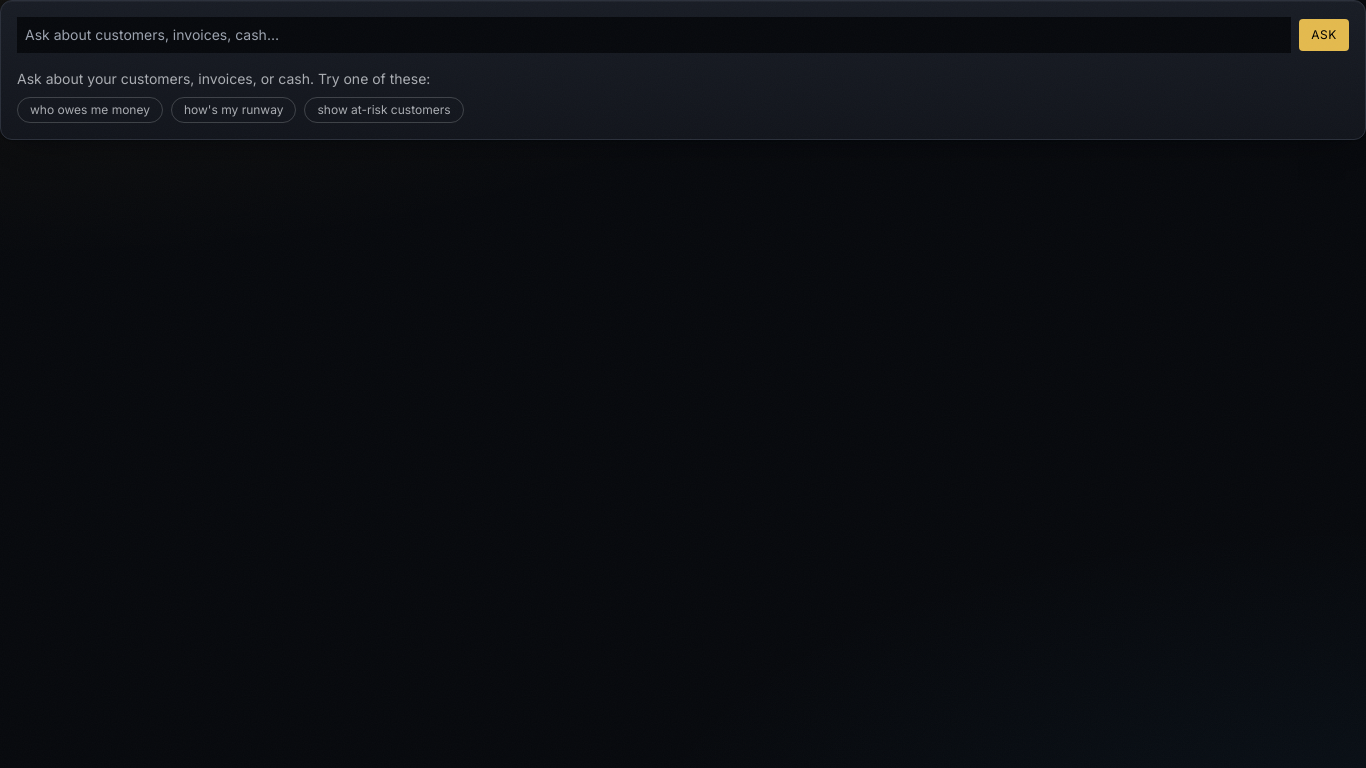
Test: CommandPalette — stat result › renders the value, label, and optional detail
In the field named "ask a question": [654, 35] box [17,17,1291,53], type "how's my runway"
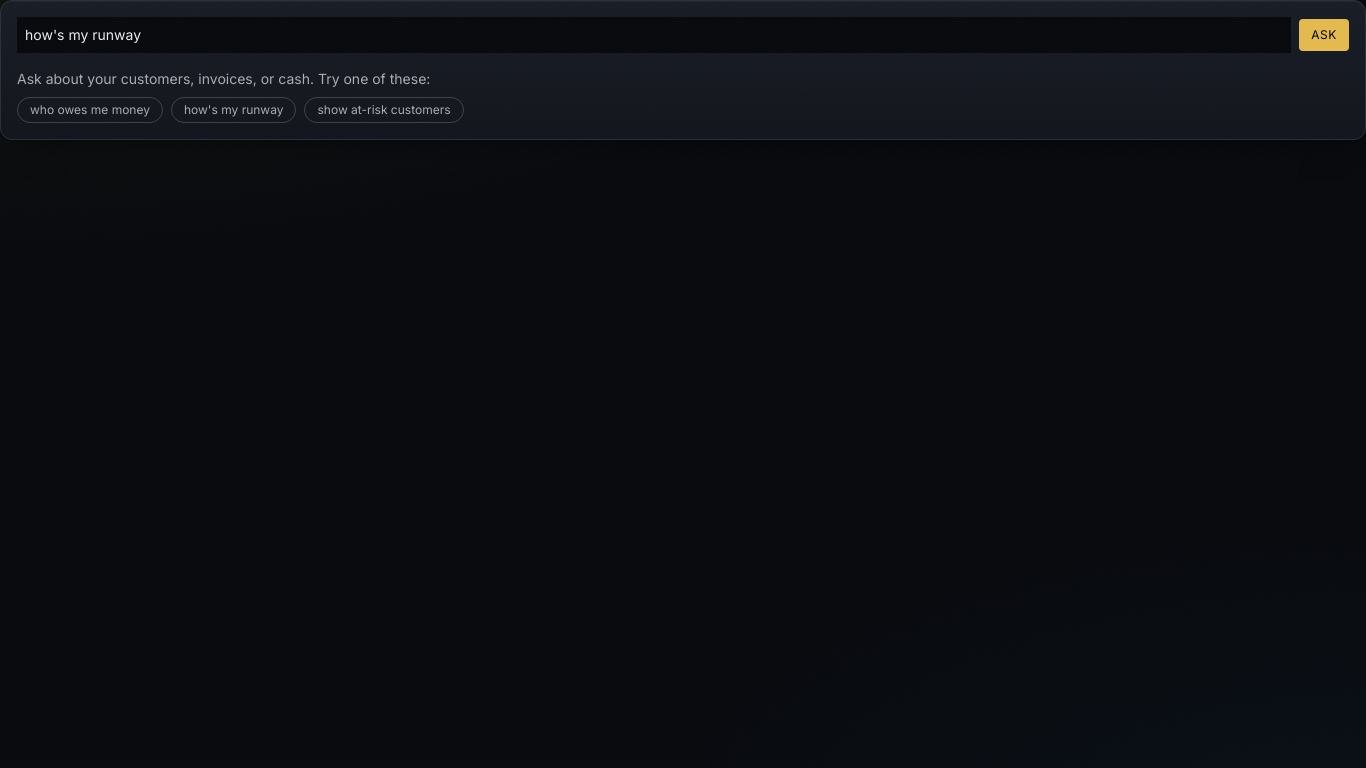
Click the button "Ask": [1324, 35] box [1299,19,1349,51]
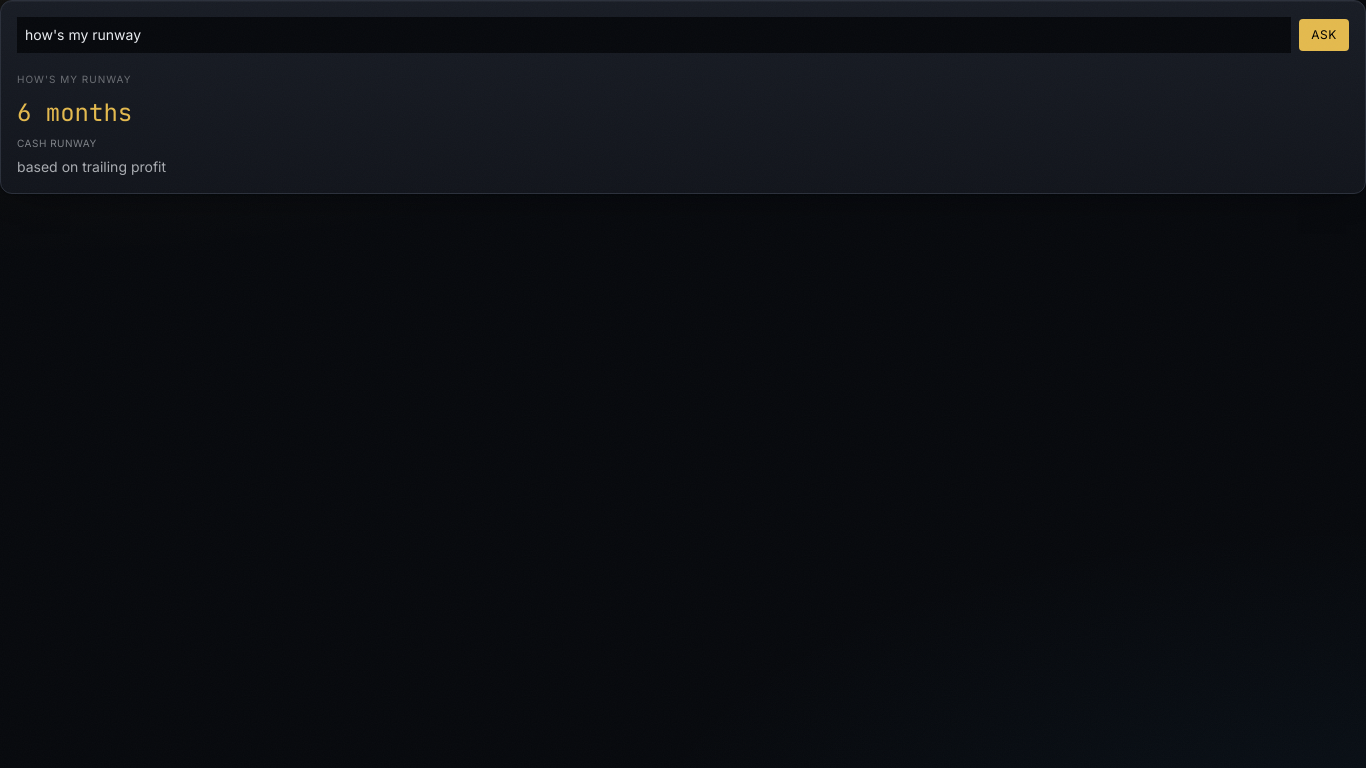
Expected: the text "6 months" is shown, [17,97,132,128]
Expected: the text "Cash runway" is shown, [17,137,97,149]
Expected: the text "based on trailing profit" is shown, [17,158,166,175]
